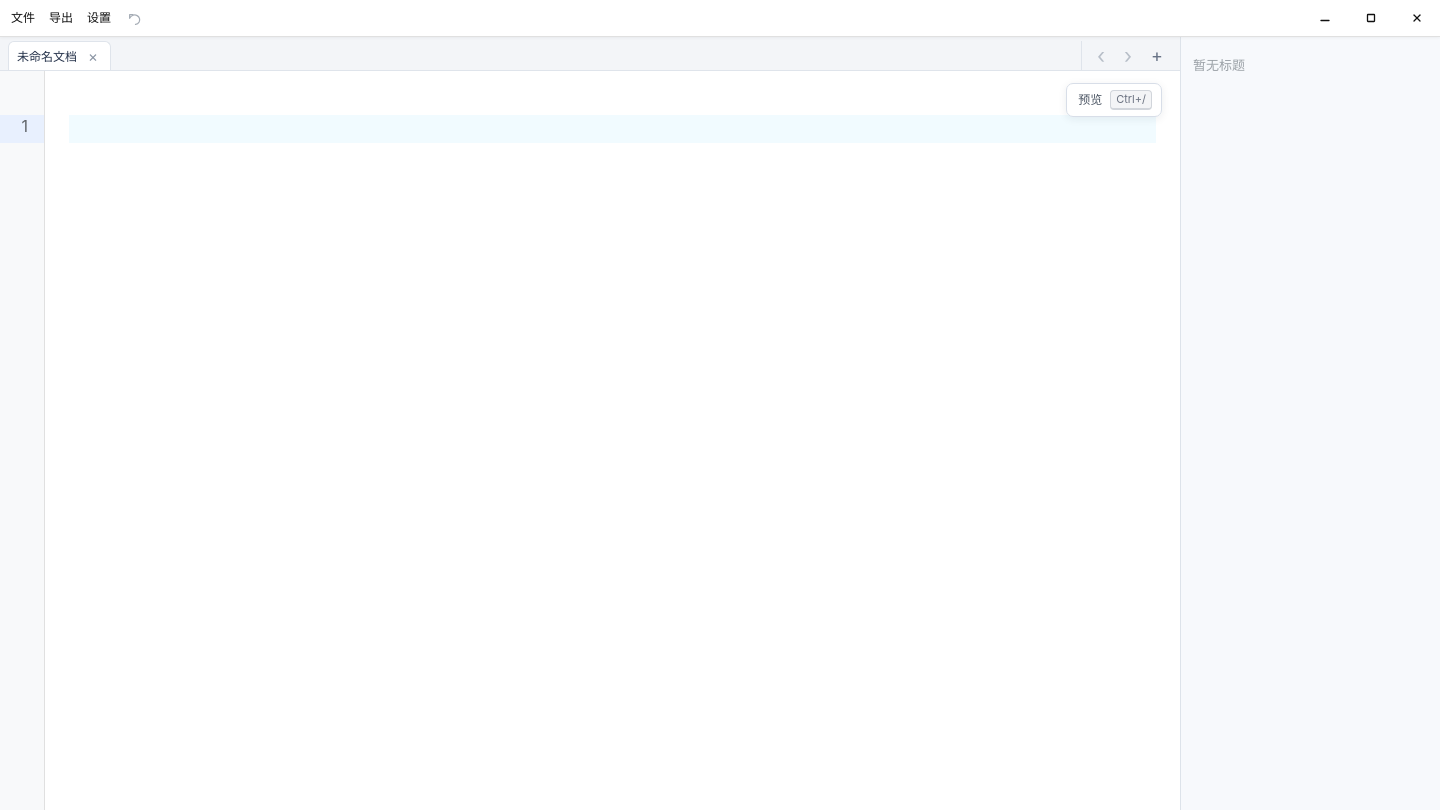
Test case: App › closes the settings page when opening the file or export menu
Click the button "设置": (99, 18) [80,0,118,36]
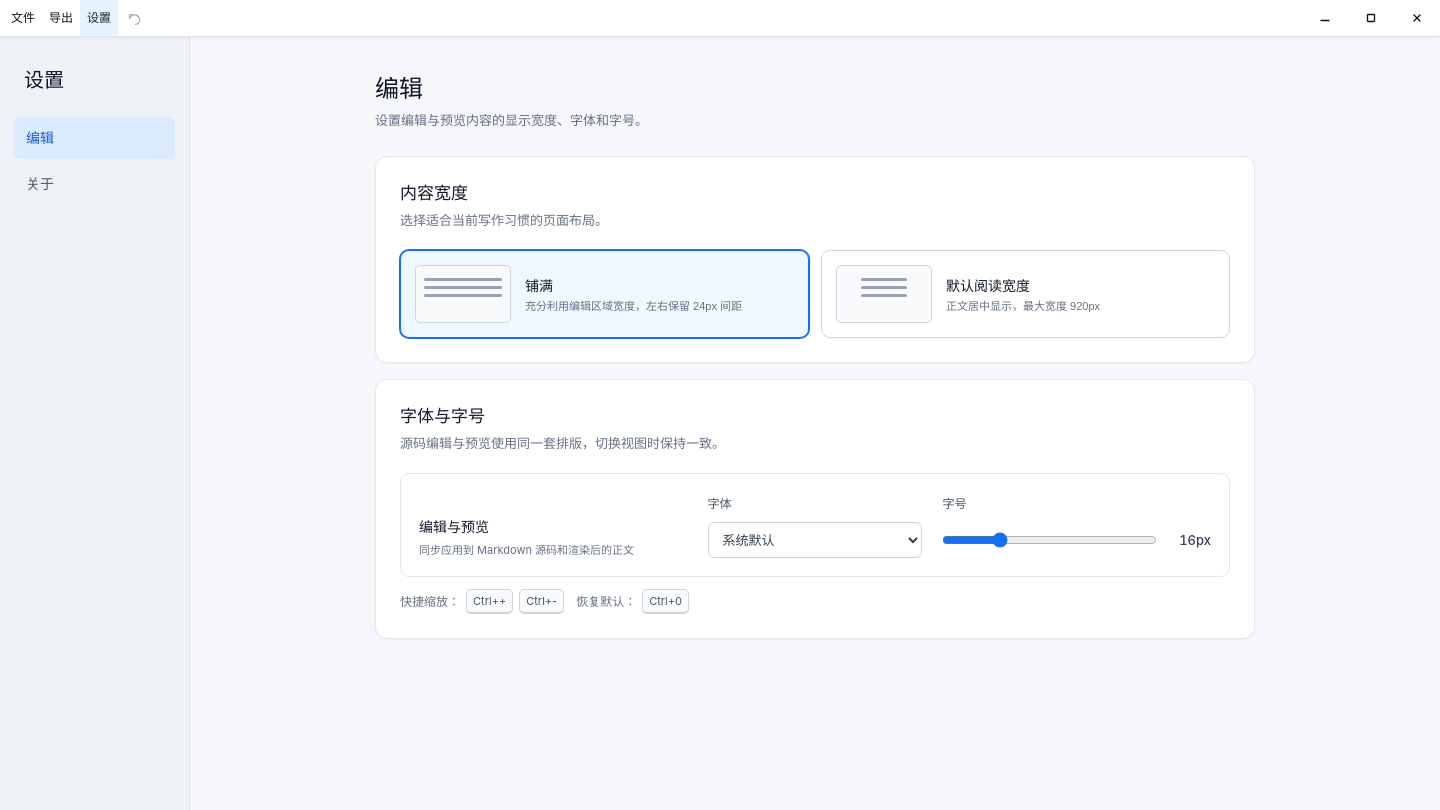
Expected: the heading "设置" is shown, [24,66,64,94]
Click the button "文件": (23, 18) [4,0,42,36]
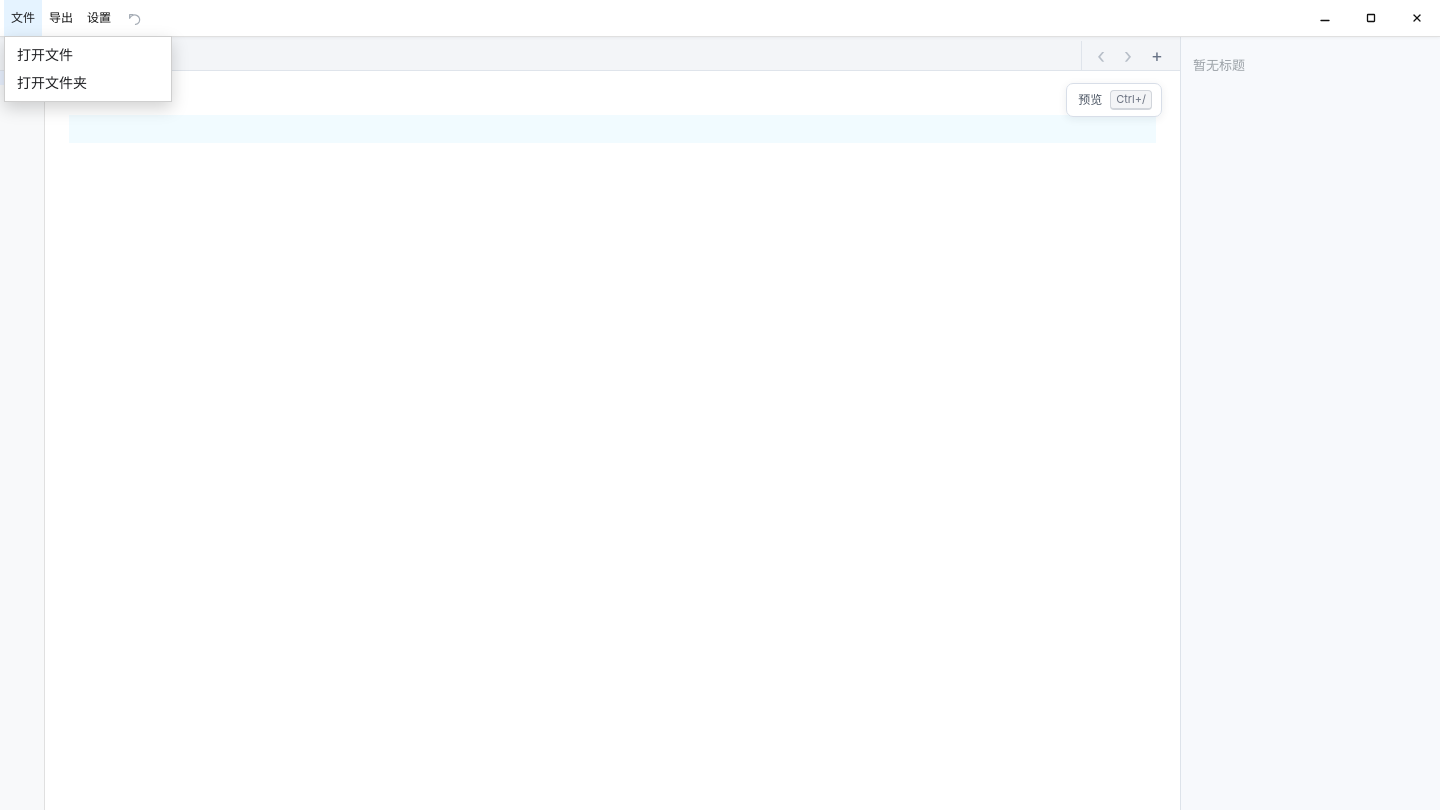
Expected: the menu item "打开文件" is shown, [5,41,171,69]
Click the button "设置": (99, 18) [80,0,118,36]
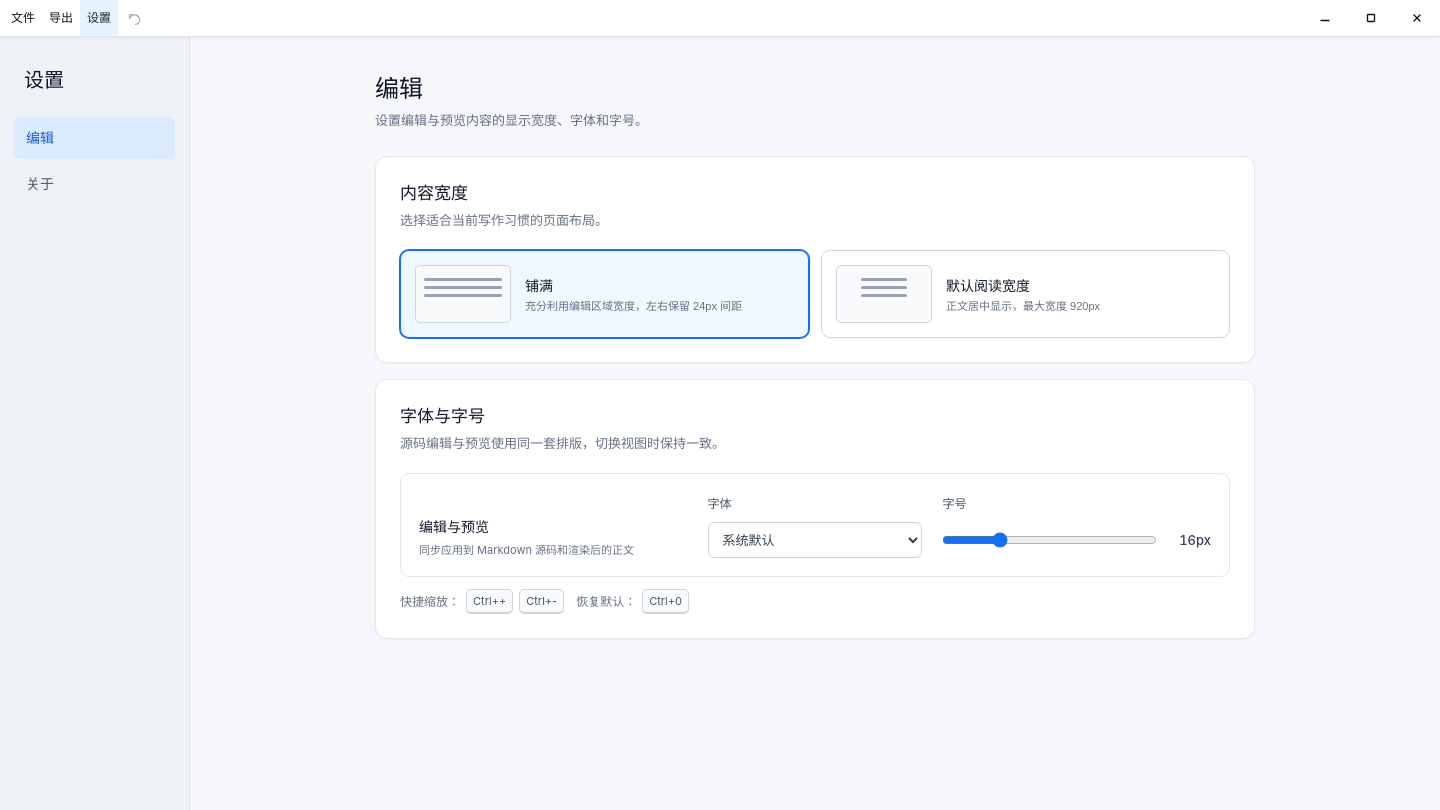
Click the button "导出": (61, 18) [42,0,80,36]
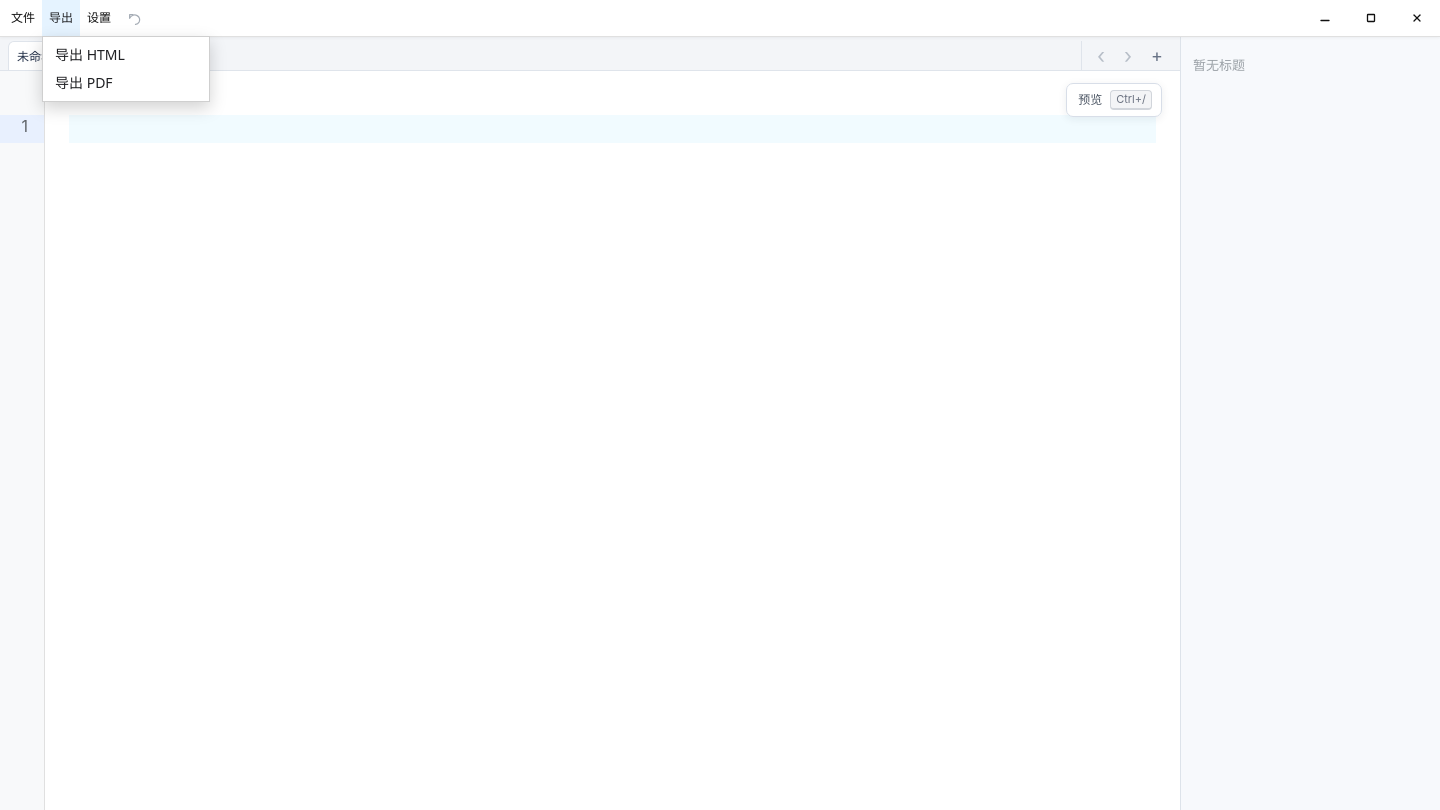
Expected: the menu item "导出 HTML" is shown, [43,41,209,69]
